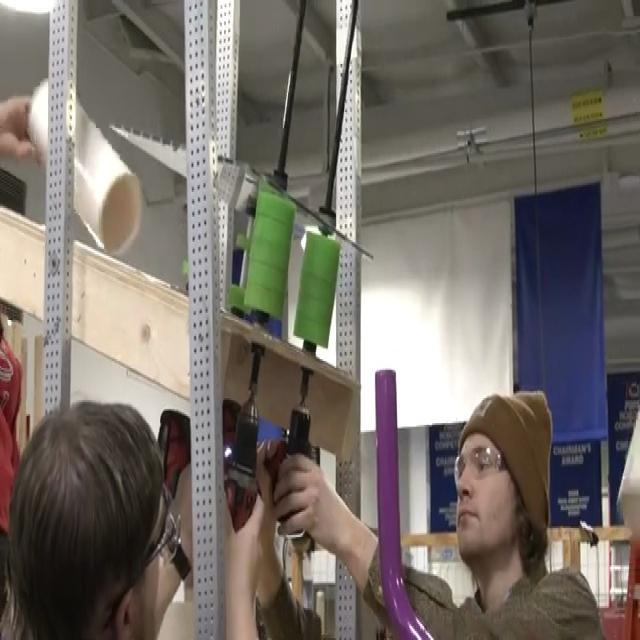Coral: (25, 75, 142, 256)
